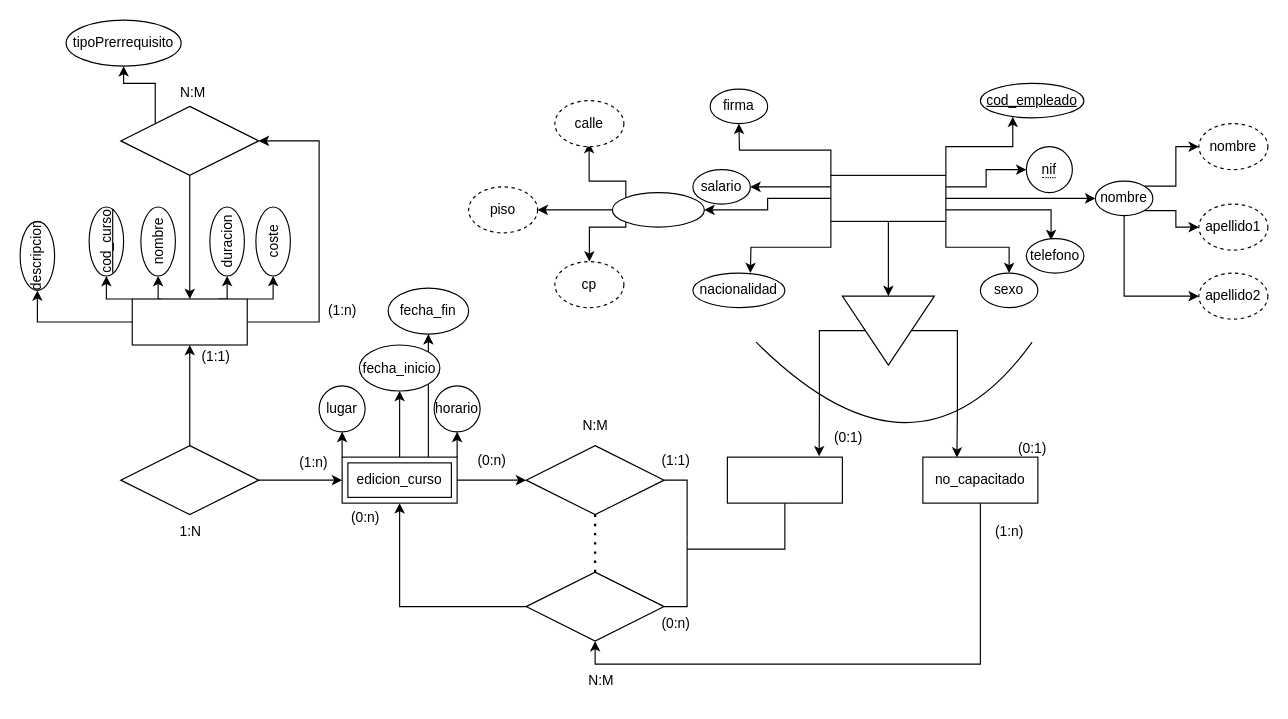
Image size: 1288x719. Some labels were removed from this diagram. Here are the shapes that lost their labels. From the top down, the box of each, then its label:
(120, 105, 259, 175): prerrequisito
(611, 191, 704, 227): direccion
(830, 174, 946, 221): empleado
(131, 298, 247, 345): curso
(120, 444, 259, 515): tiene
(525, 444, 664, 515): imparte
(726, 456, 842, 503): capacitado
(525, 571, 664, 641): matriculadoEn
